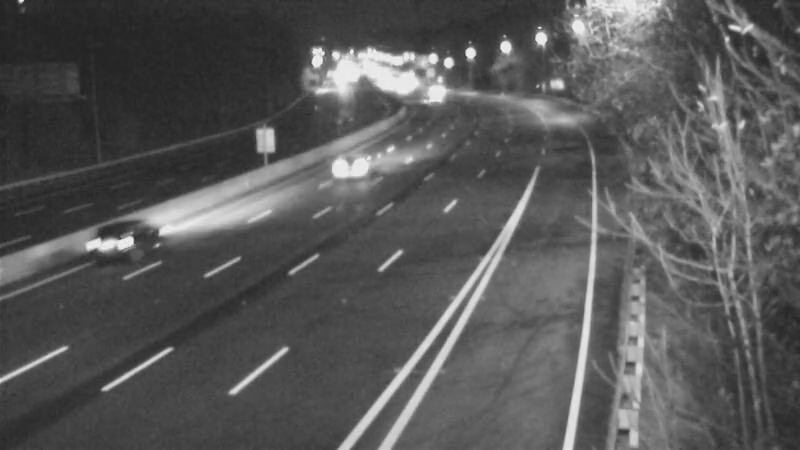vehicle: (307, 129, 387, 209), (69, 207, 149, 287)
